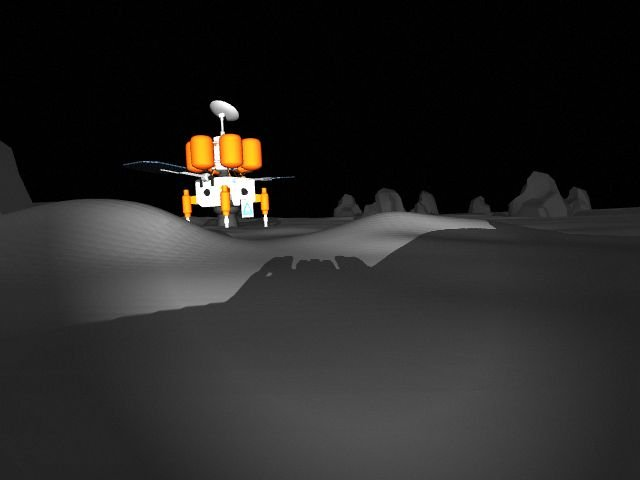homebase: (120, 94, 298, 234)
